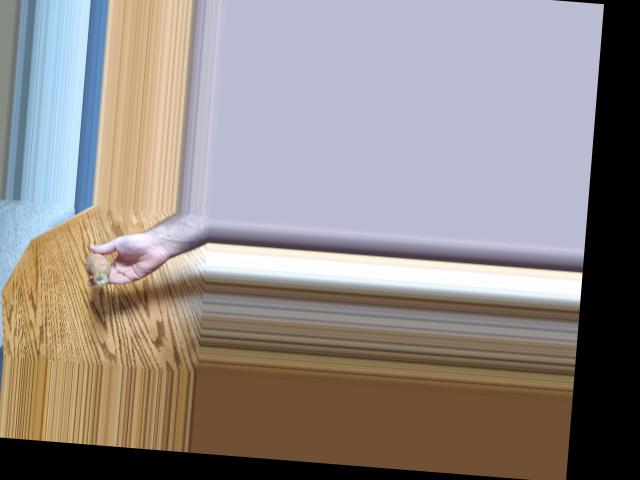sweet_potato: (73, 247, 111, 285)
